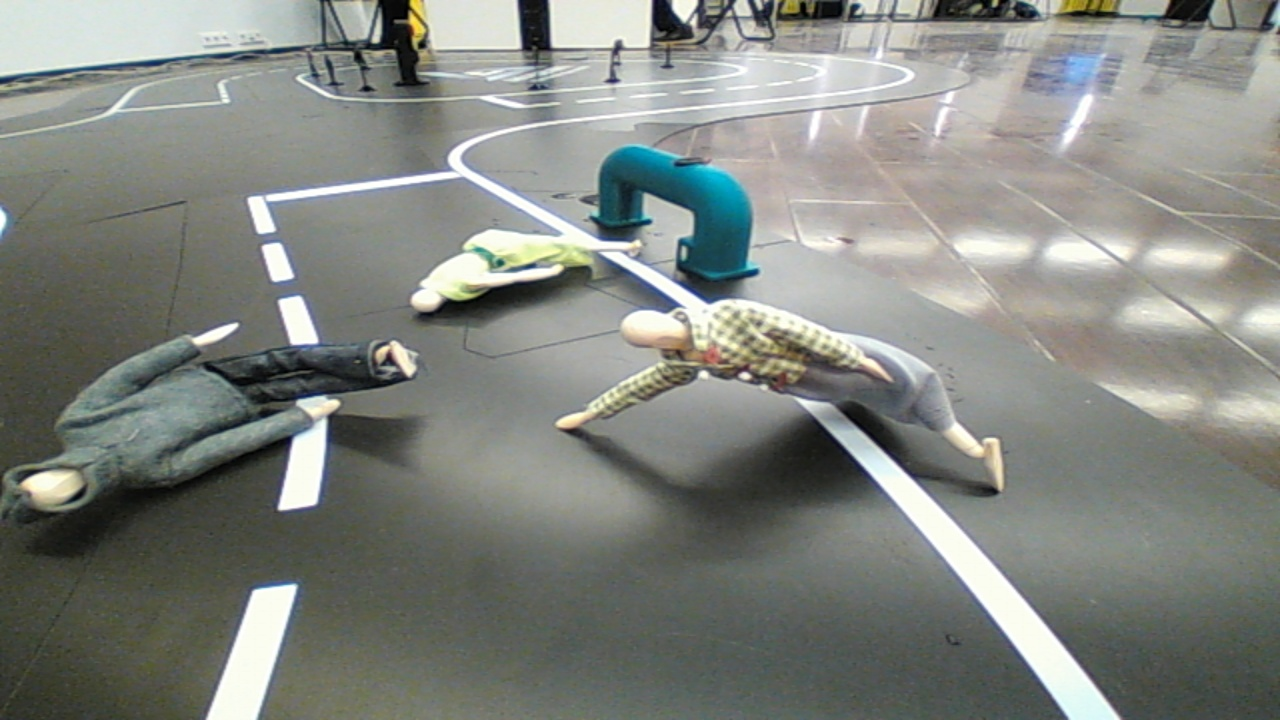Pedestrian crossing: (588, 130, 768, 286)
Road works: (545, 289, 1029, 505), (5, 313, 430, 549), (392, 217, 663, 315)
